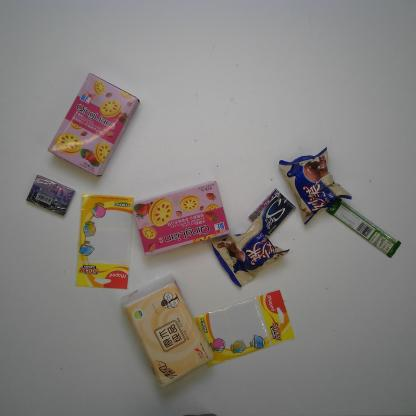Chocolate: (325, 197, 401, 258)
Dessert: (47, 71, 141, 178), (132, 180, 230, 257), (210, 215, 292, 288), (278, 146, 352, 226)
Gum: (248, 187, 296, 236), (25, 174, 75, 216)
Stationery: (193, 289, 296, 369), (75, 192, 135, 290)
Tissue: (119, 273, 215, 389)
